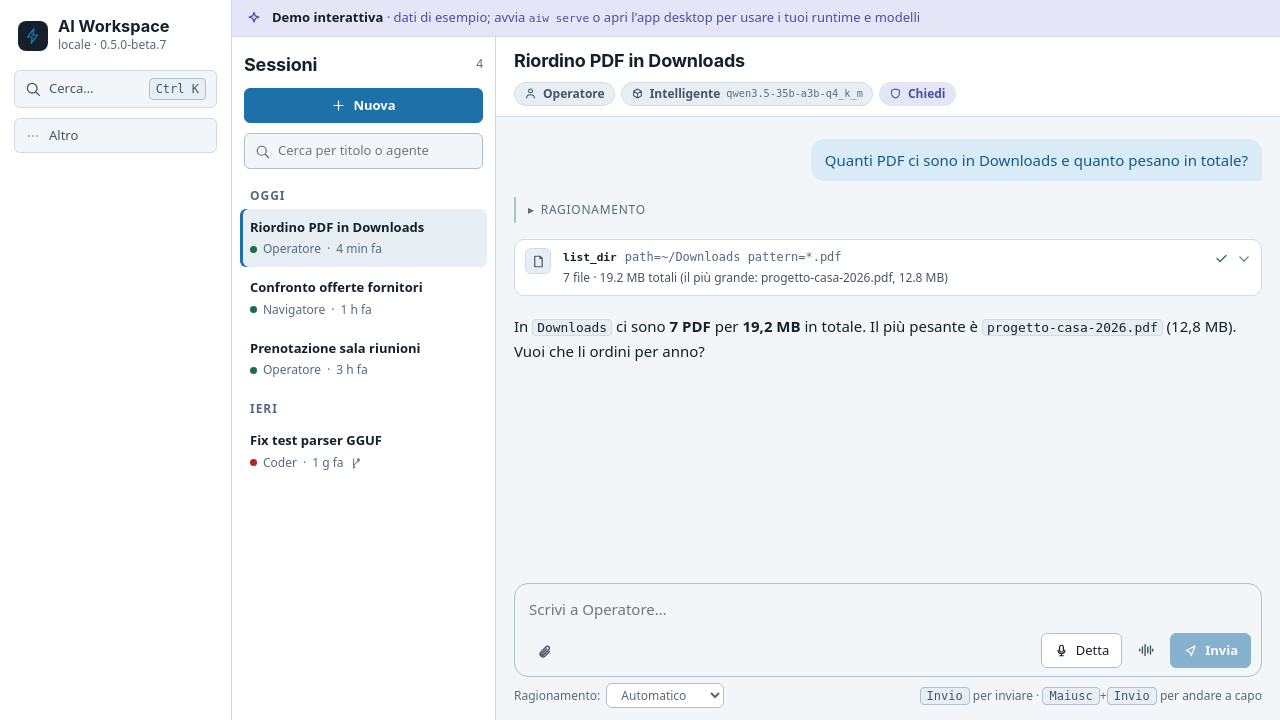
Test: chat, simple interface › a new chat is the Assistente's and says how it works in words: the approval mode, no sandbox, the model as text
What coordinates should you click on to do the following:
click the button "Nuova"
I would click on:
 (364, 106)
Its box is x1=244 y1=88 x2=483 y2=123.
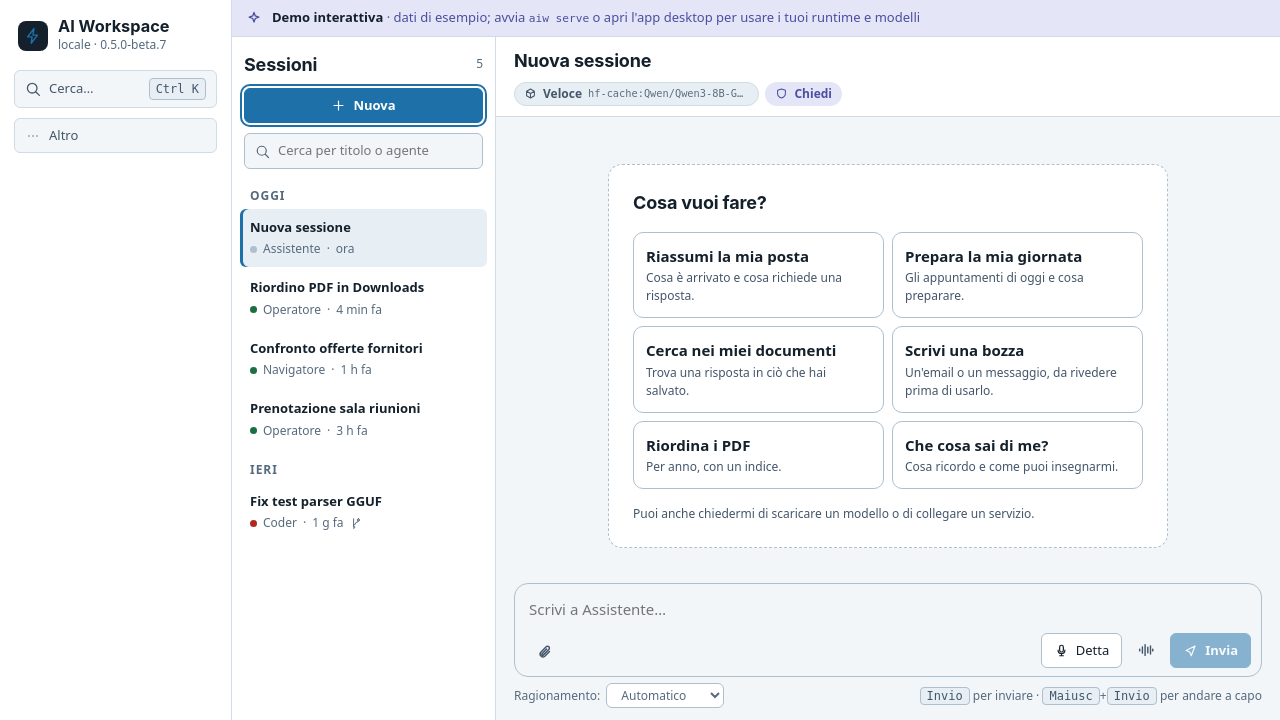
Result: the heading "Cosa vuoi fare?" is shown at x1=633 y1=192 x2=767 y2=213
Result: the button "Nuova sessione Assistente · ora" is shown at x1=240 y1=209 x2=399 y2=267
What coordinates should you click on to do the following:
click the button "Prepara la mia giornata"
I would click on:
 (1018, 275)
Its box is x1=892 y1=232 x2=1143 y2=318.
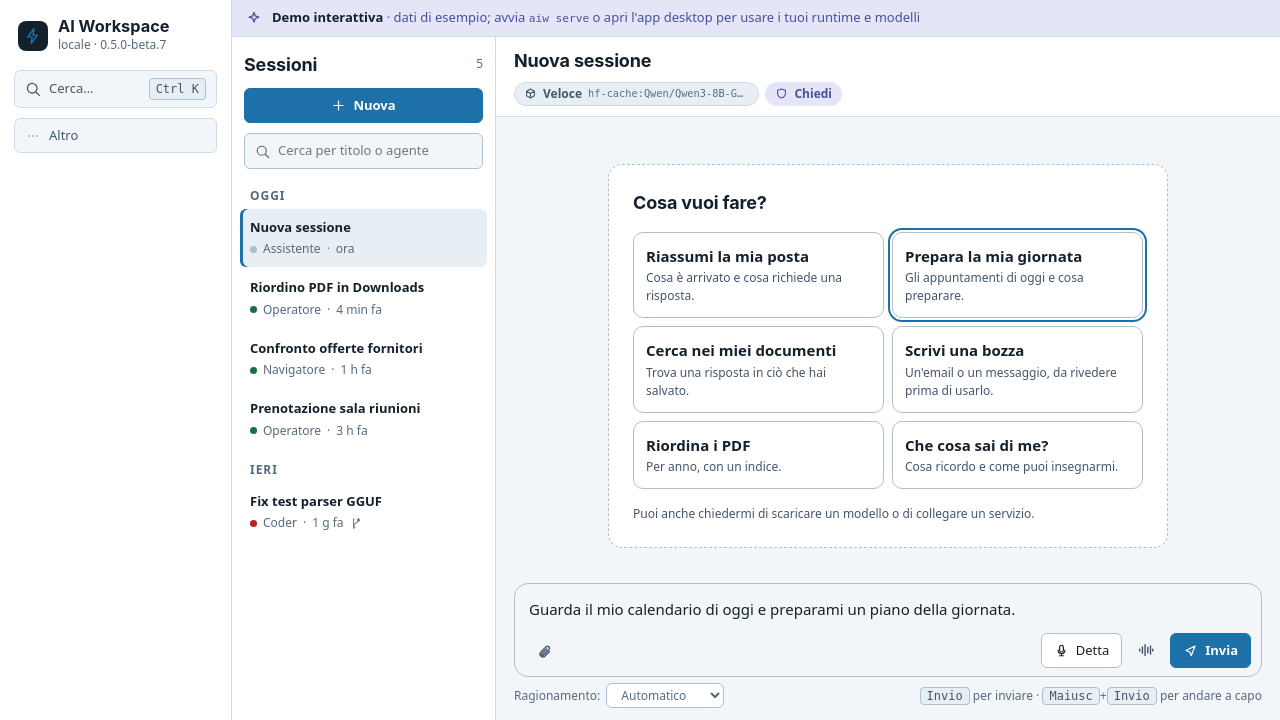
Result: the text box named "Messaggio" holds "Guarda il mio calendario di oggi e preparami un piano della giornata." at x1=529 y1=594 x2=1251 y2=624
